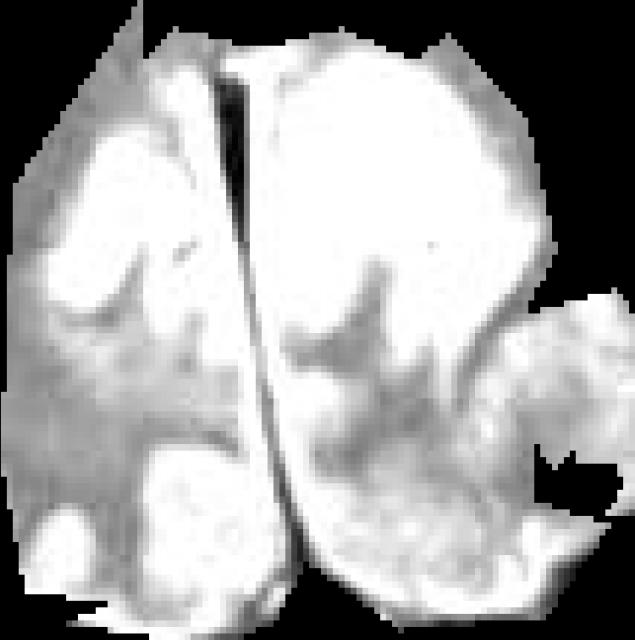tumor_moderate_chance: (1, 0, 635, 640)
